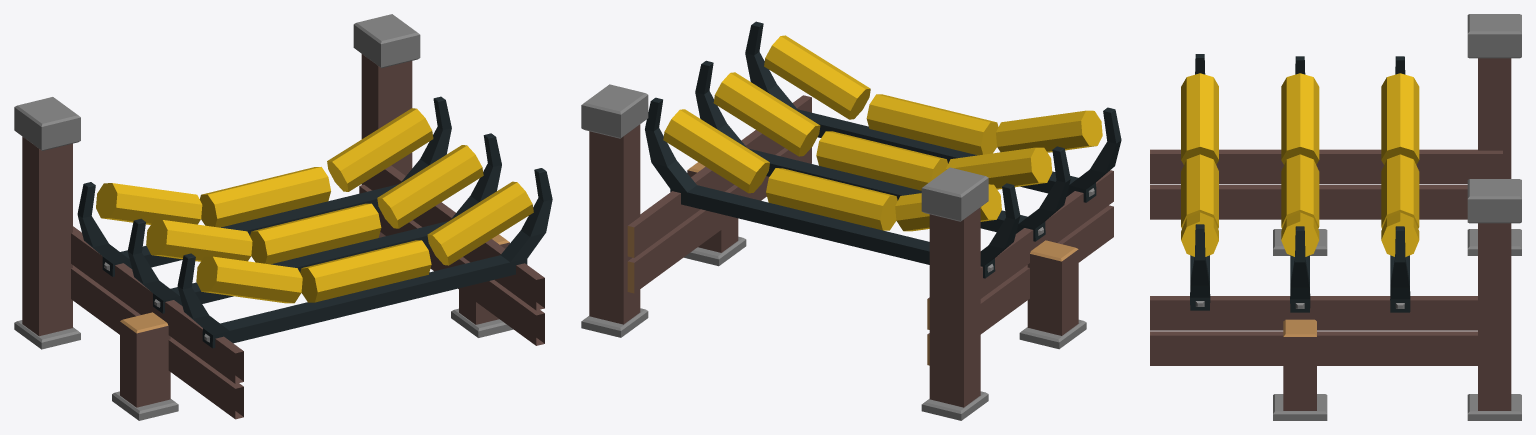
The model's file is EsteiraFinal.fbx.
3 renders of one model, left to right at view 1: azimuth 30°, elevation 25°; view 2: azimuth 150°, elevation 25°; view 3: azimuth 270°, elevation 25°, orthographic.
Parts seen in each view (by area): view 1: EsteiraFim; view 2: EsteiraFim; view 3: EsteiraFim.
Boxes of the visible parts, x1,y1,x2,y2 form: EsteiraFim: [14, 14, 552, 420]; EsteiraFim: [581, 21, 1121, 420]; EsteiraFim: [1150, 14, 1521, 420].
Bounding box in the file's own units: 871 × 493 × 743.
